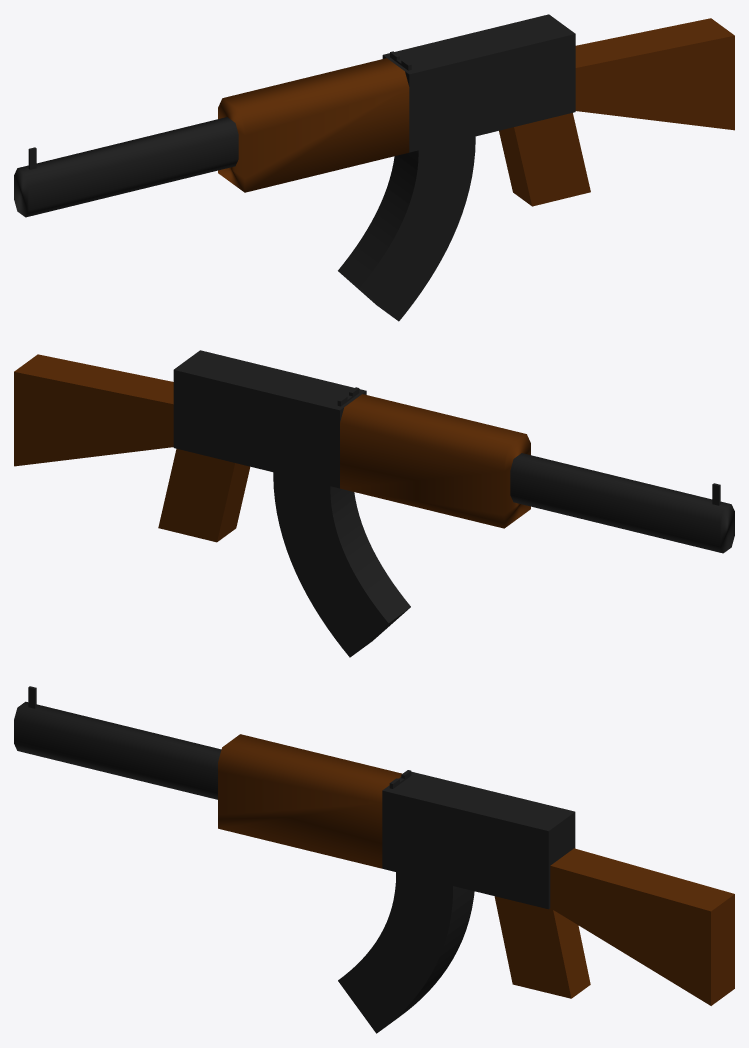
3 renders of one model, top to bottom at view 1: azimuth 30°, elevation 25°; view 2: azimuth 150°, elevation 25°; view 3: azimuth 330°, elevation 25°, orthographic.
Visible parts, largest first — view 1: Cube.006, Cube, Cube.007, Cube.008, Cube.005, Cube.004; view 2: Cube.006, Cube, Cube.007, Cube.008, Cube.005, Cube.004; view 3: Cube, Cube.007, Cube.006, Cube.008, Cube.005, Cube.004.
Boxes of the visible parts, bbox=[...] form: Cube.006: bbox=[218, 58, 409, 192]; Cube: bbox=[382, 14, 575, 152]; Cube.007: bbox=[575, 18, 734, 130]; Cube.008: bbox=[338, 136, 475, 321]; Cube.005: bbox=[14, 117, 238, 217]; Cube.004: bbox=[499, 113, 590, 206]; Cube.006: bbox=[340, 394, 530, 528]; Cube: bbox=[173, 350, 366, 488]; Cube.007: bbox=[14, 354, 173, 466]; Cube.008: bbox=[273, 472, 410, 657]; Cube.005: bbox=[510, 453, 734, 553]; Cube.004: bbox=[158, 448, 250, 542]; Cube: bbox=[382, 771, 575, 909]; Cube.007: bbox=[550, 848, 734, 1005]; Cube.006: bbox=[218, 734, 402, 868]; Cube.008: bbox=[338, 872, 474, 1033]; Cube.005: bbox=[14, 701, 221, 799]; Cube.004: bbox=[494, 896, 590, 998].
Bounding box in the file's own units: 4.24 × 1.45 × 0.28.
